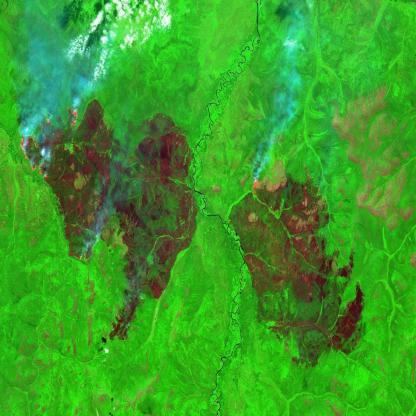fire: (18, 102, 80, 184), (249, 170, 270, 199), (312, 177, 329, 208), (74, 243, 90, 267)
